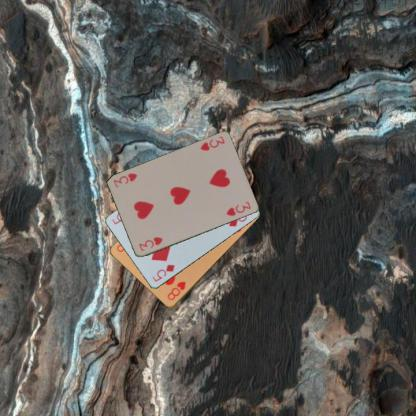3h: (136, 234, 164, 252), (198, 134, 226, 152)
5d: (149, 262, 176, 283)
8h: (164, 279, 186, 302)
